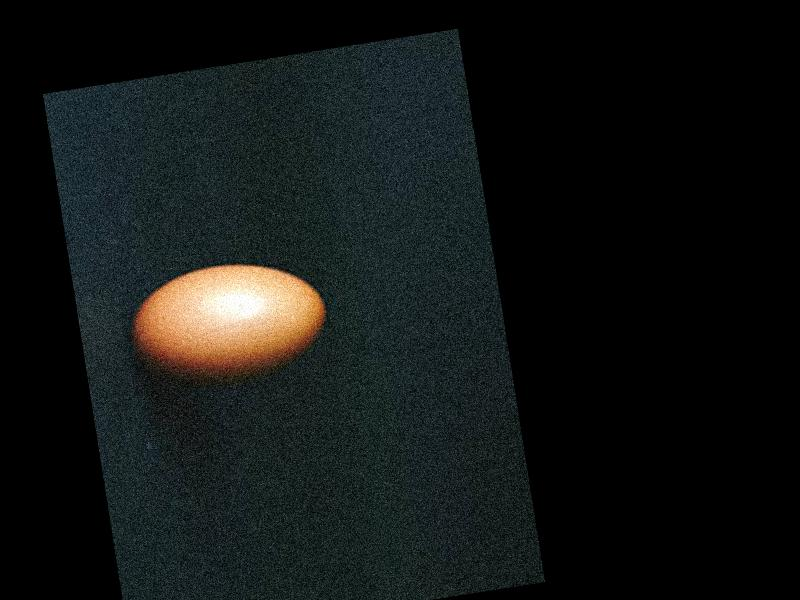Eggs: (122, 252, 333, 393)
